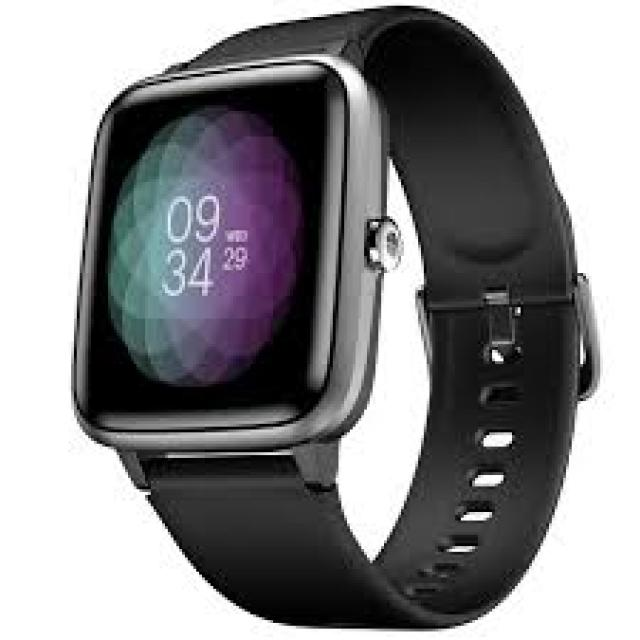objects: (77, 0, 592, 636)
